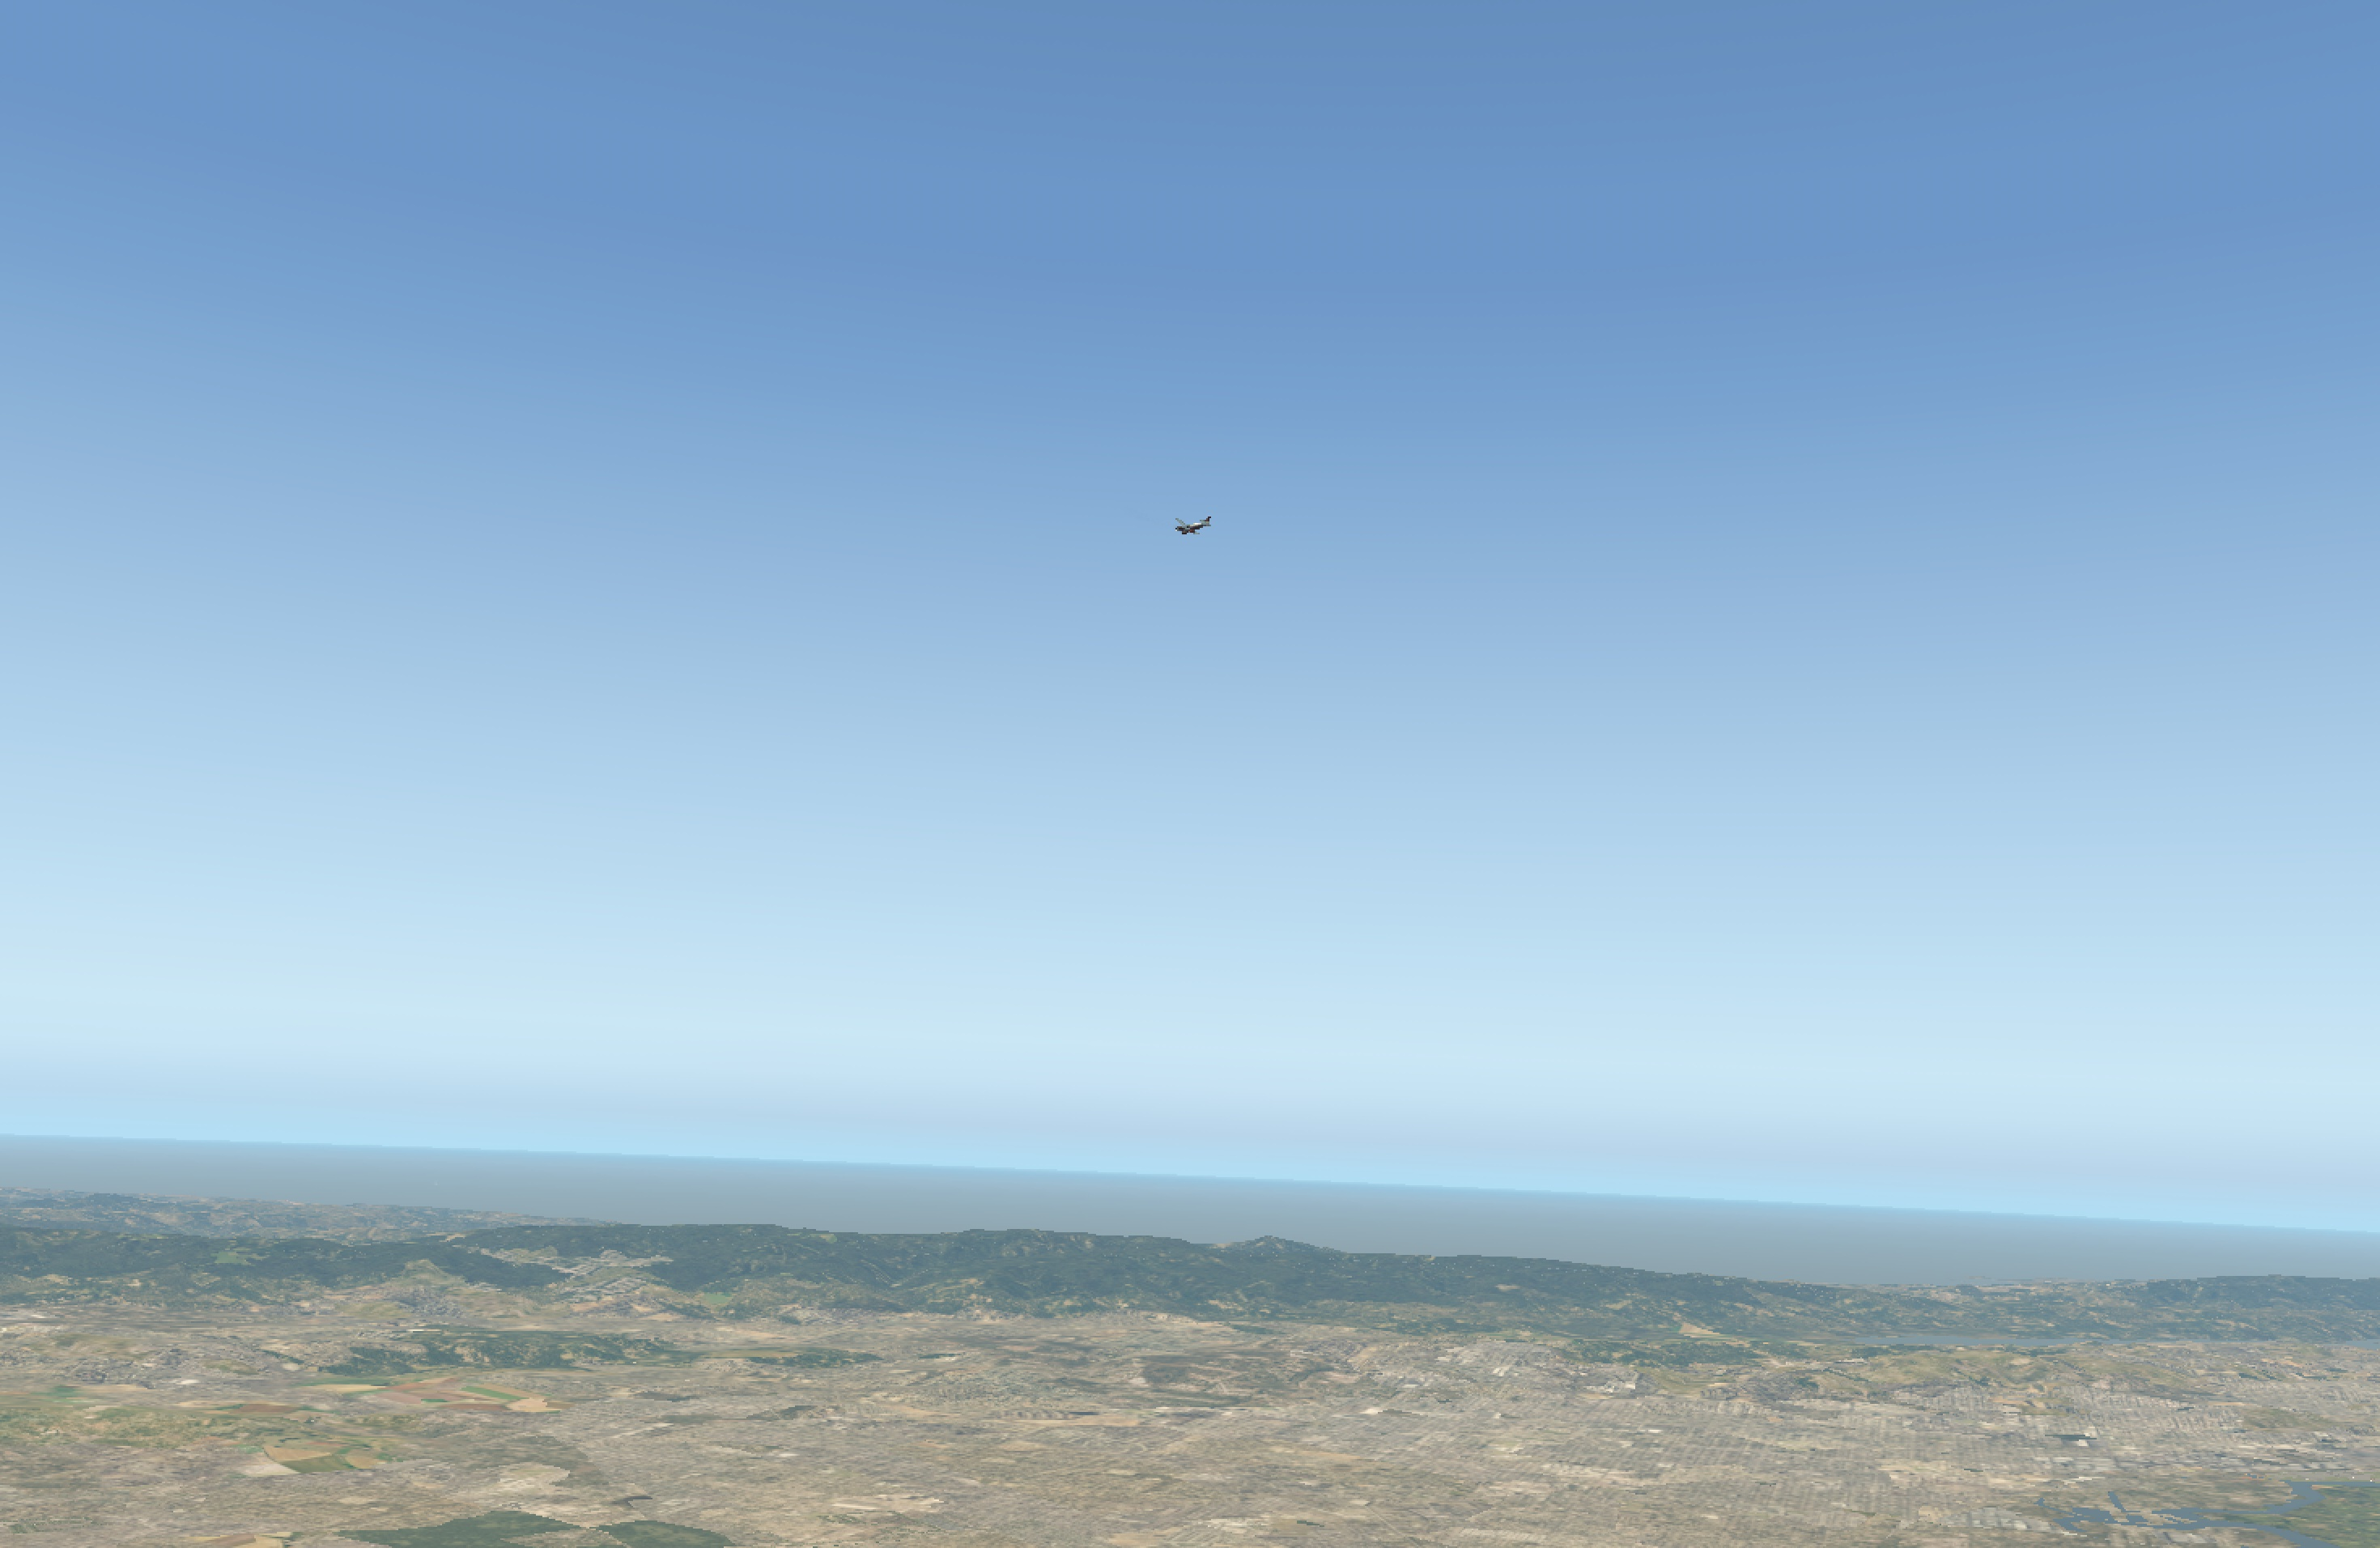aircraft: (1161, 521, 1214, 541)
